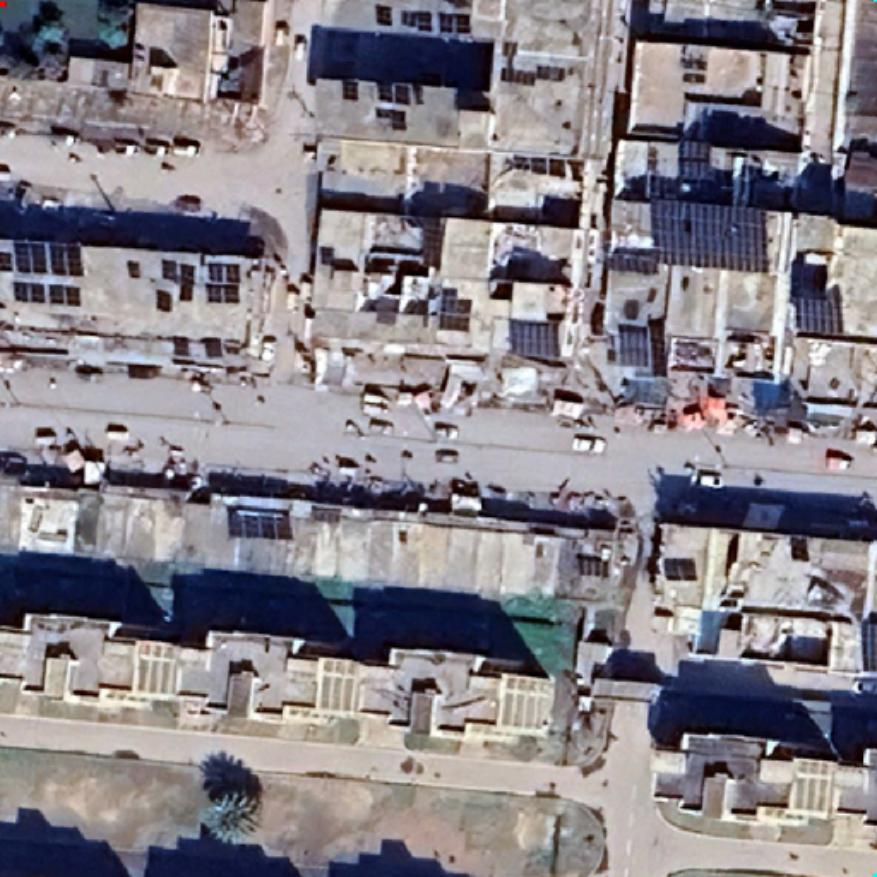Solarpanel: (648, 194, 772, 274), (0, 232, 89, 312), (1, 236, 87, 280), (222, 503, 298, 545), (506, 314, 564, 362), (792, 290, 846, 338), (10, 276, 86, 310), (507, 146, 571, 182), (433, 285, 475, 335), (203, 258, 245, 306), (676, 136, 714, 180), (436, 6, 476, 40), (397, 4, 437, 36), (659, 554, 701, 584), (858, 617, 876, 674), (152, 284, 176, 316), (371, 1, 395, 30), (338, 75, 362, 103)
